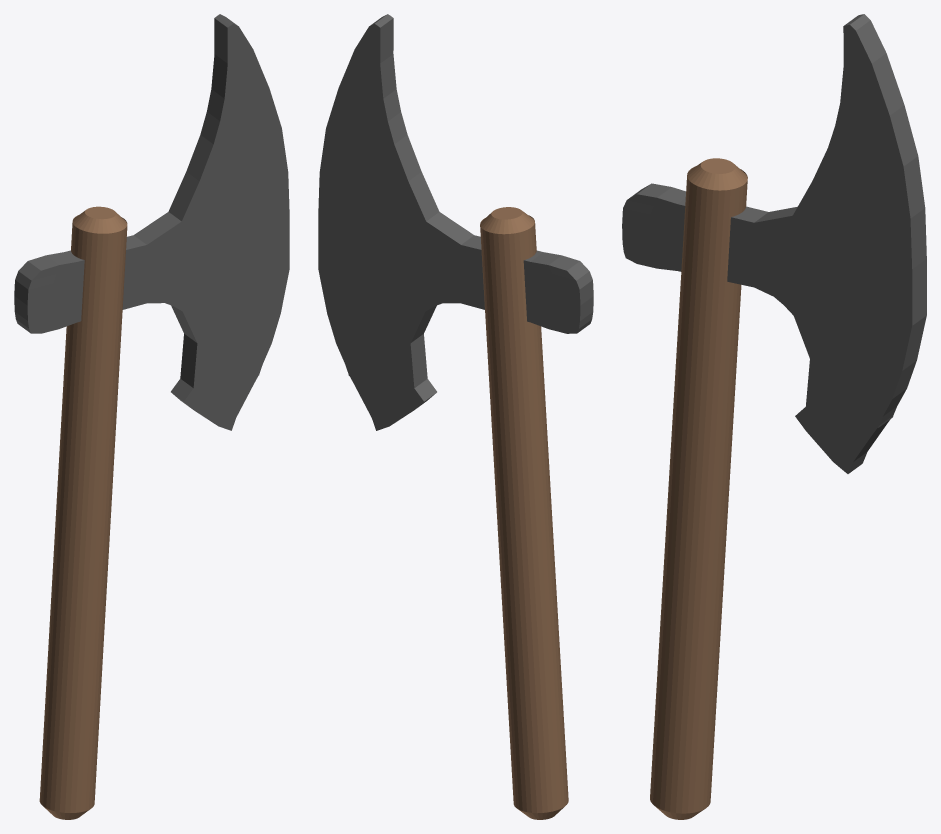
Rendered from Axe.fbx.
3 views of the same model, side by side, from view 1: azimuth 30°, elevation 25°; view 2: azimuth 150°, elevation 25°; view 3: azimuth 330°, elevation 25° (orthographic). The views are drawn at different scales.
Parts seen in each view (by area): view 1: Cube, Cylinder; view 2: Cube, Cylinder; view 3: Cube, Cylinder.
Boxes of the visible parts, <box> form: Cube: <box>14,14,289,430</box>; Cylinder: <box>39,206,127,819</box>; Cube: <box>318,14,593,430</box>; Cylinder: <box>480,207,568,819</box>; Cube: <box>622,14,926,473</box>; Cylinder: <box>650,158,747,819</box>.
Size of the model in its own units: 757 by 2087 by 140.
